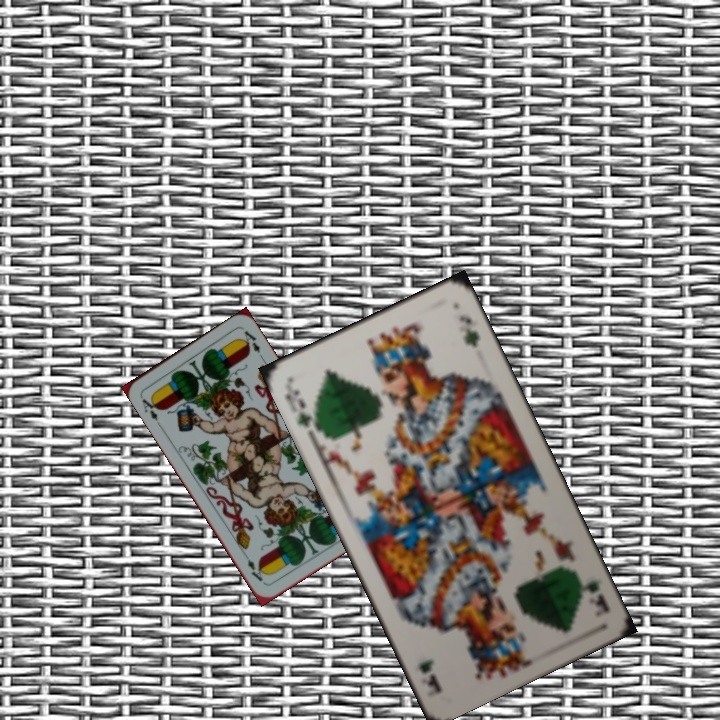EA: (137, 392, 163, 429)
GK: (281, 380, 324, 433), (579, 575, 612, 615)
